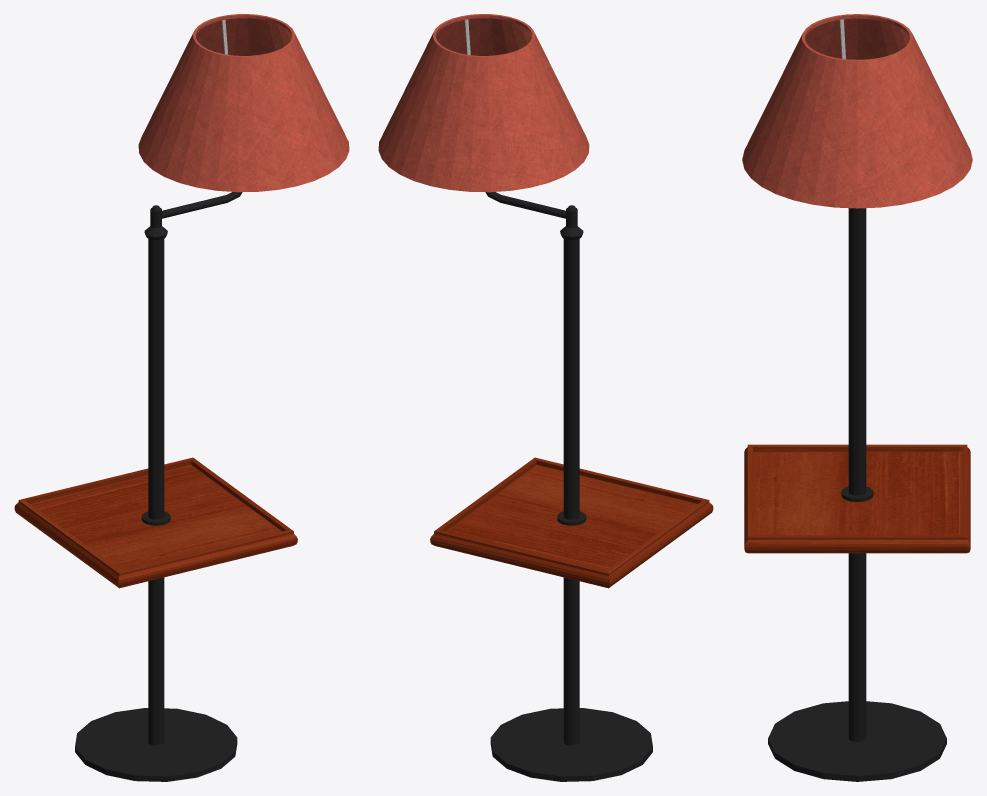
File: living_lamp.obj
The picture shows the model from 3 angles, left to right: view 1: azimuth 30°, elevation 25°; view 2: azimuth 150°, elevation 25°; view 3: azimuth 270°, elevation 25°; orthographic projection. The views are drawn at different scales.
Parts seen in each view (by area): view 1: shade_Circle.002, littletable_Plane.001, bae_Cylinder; view 2: shade_Circle.002, littletable_Plane.001, bae_Cylinder; view 3: shade_Circle.002, littletable_Plane.001, bae_Cylinder.
Part boxes in pixels (box(x1,y1,x2,y2)): shade_Circle.002: box(138, 14, 349, 192); littletable_Plane.001: box(14, 457, 297, 588); bae_Cylinder: box(75, 192, 242, 781); shade_Circle.002: box(378, 14, 589, 192); littletable_Plane.001: box(430, 457, 713, 588); bae_Cylinder: box(485, 192, 652, 781); shade_Circle.002: box(742, 14, 972, 208); littletable_Plane.001: box(744, 444, 970, 553); bae_Cylinder: box(768, 208, 946, 781).
Bounding box in the file's own units: 0.5829 × 1.43 × 0.3965.
5 materials, 2 textured.
